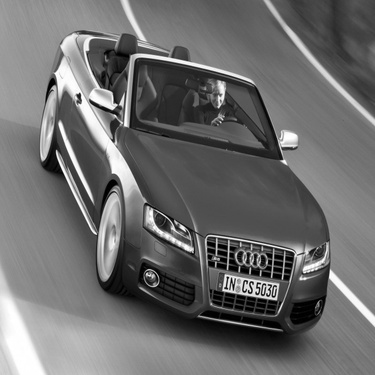car: (32, 19, 336, 344)
